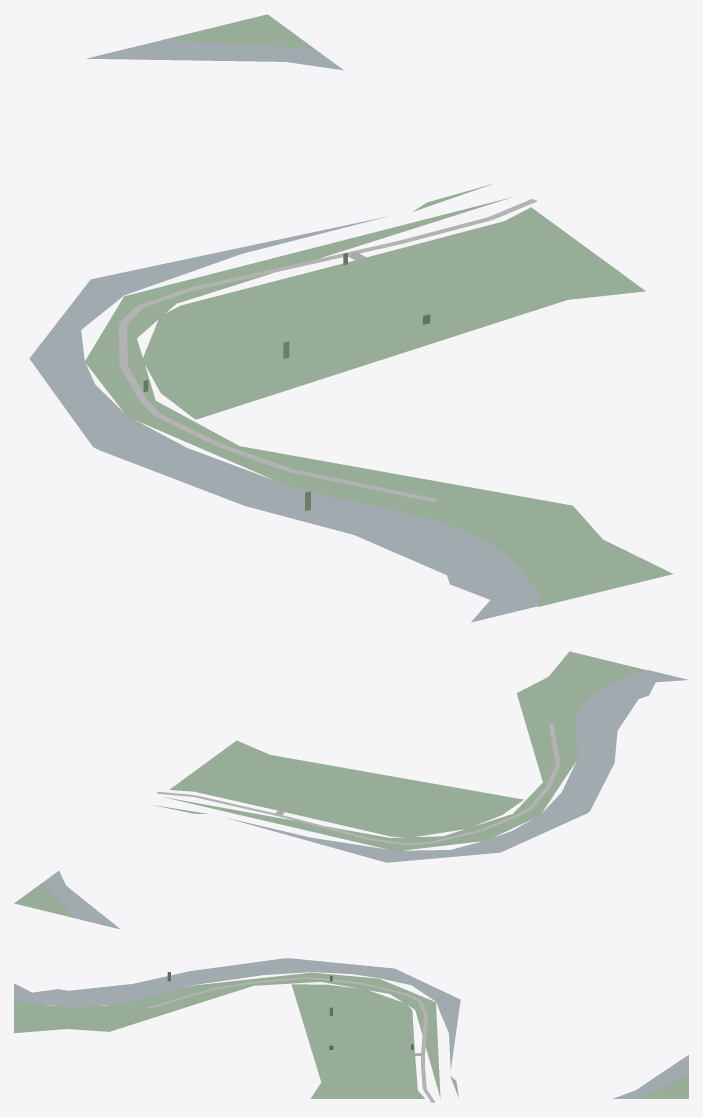
3 views of the same model, one above another, from view 1: azimuth 30°, elevation 25°; view 2: azimuth 150°, elevation 25°; view 3: azimuth 270°, elevation 25° (orthographic). The views are drawn at different scales.
Bounding box in the file's own units: 252 × 8.84 × 500.
